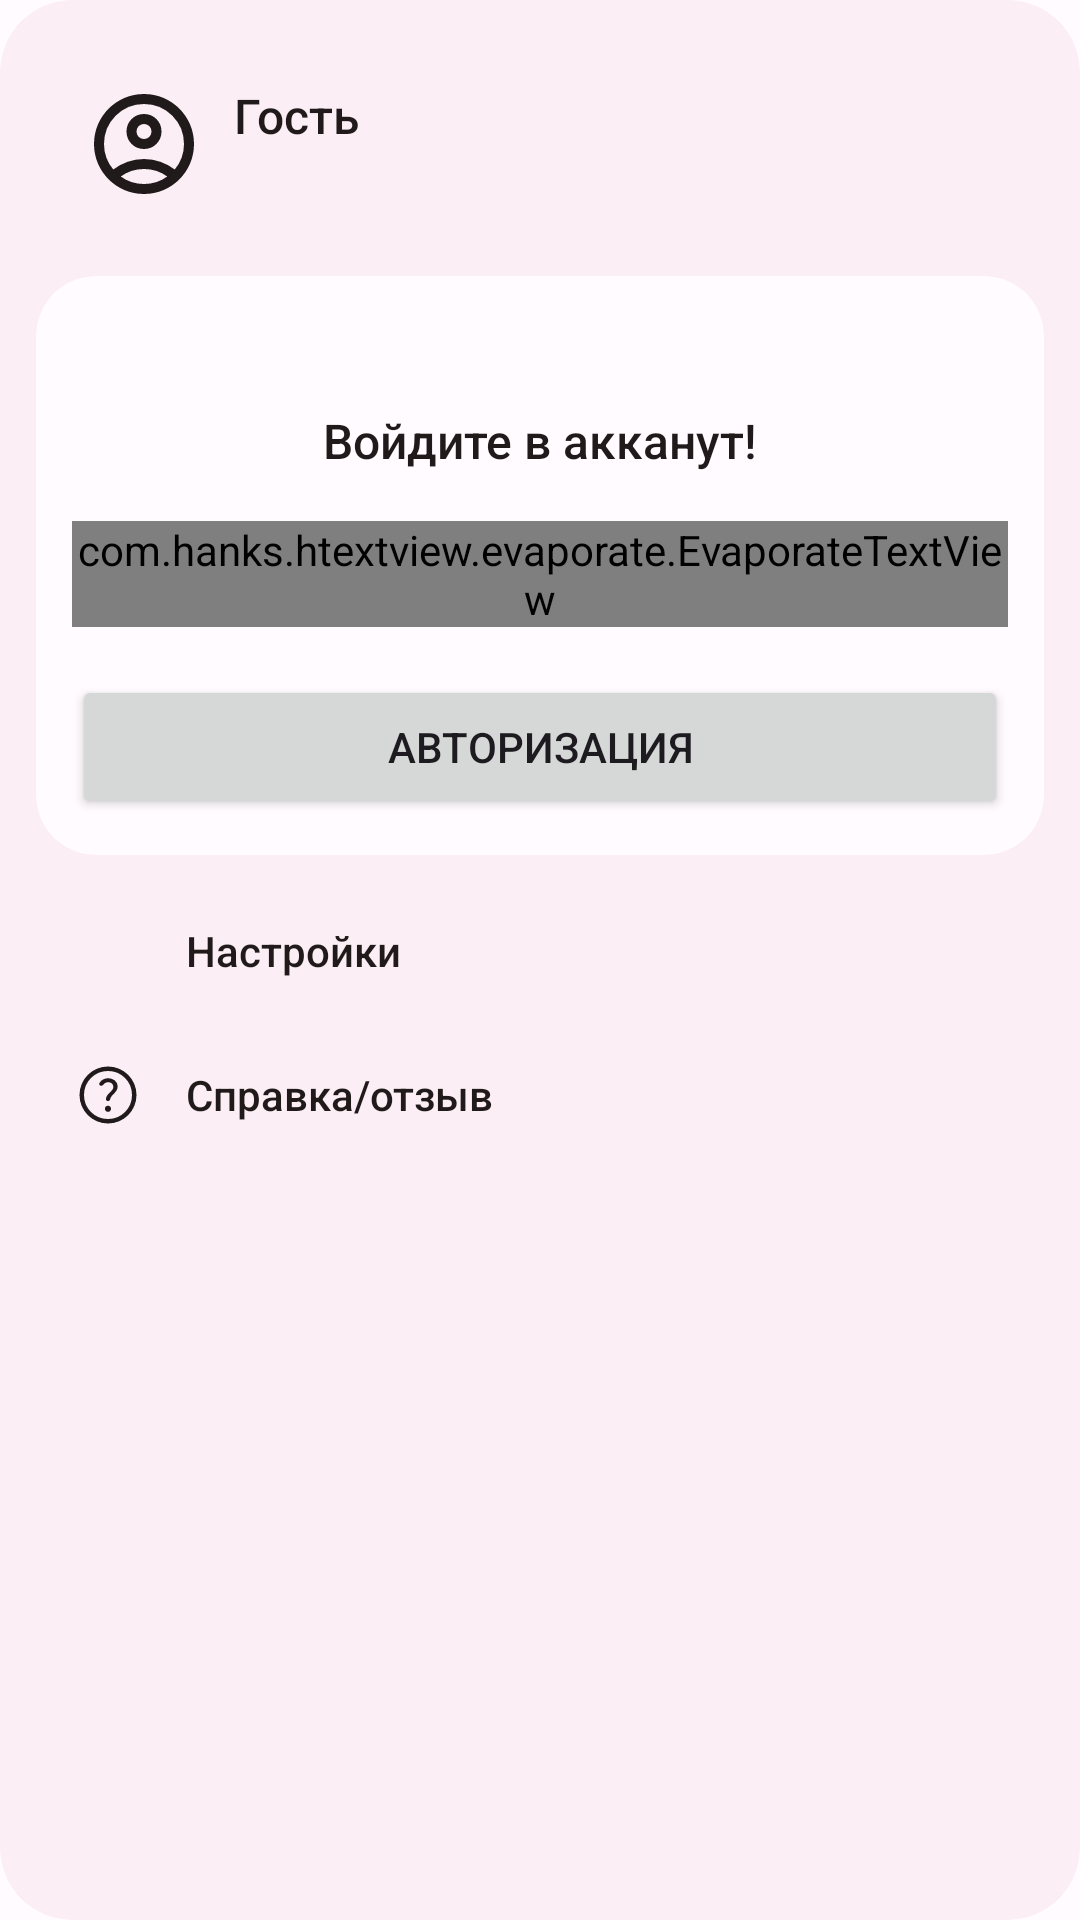

Screen size 1080 × 1920. Icon name, then its box in pixels as (x1, y1, x2, y2):
account circle: (94, 94, 194, 194)
help: (79, 1066, 137, 1124)
